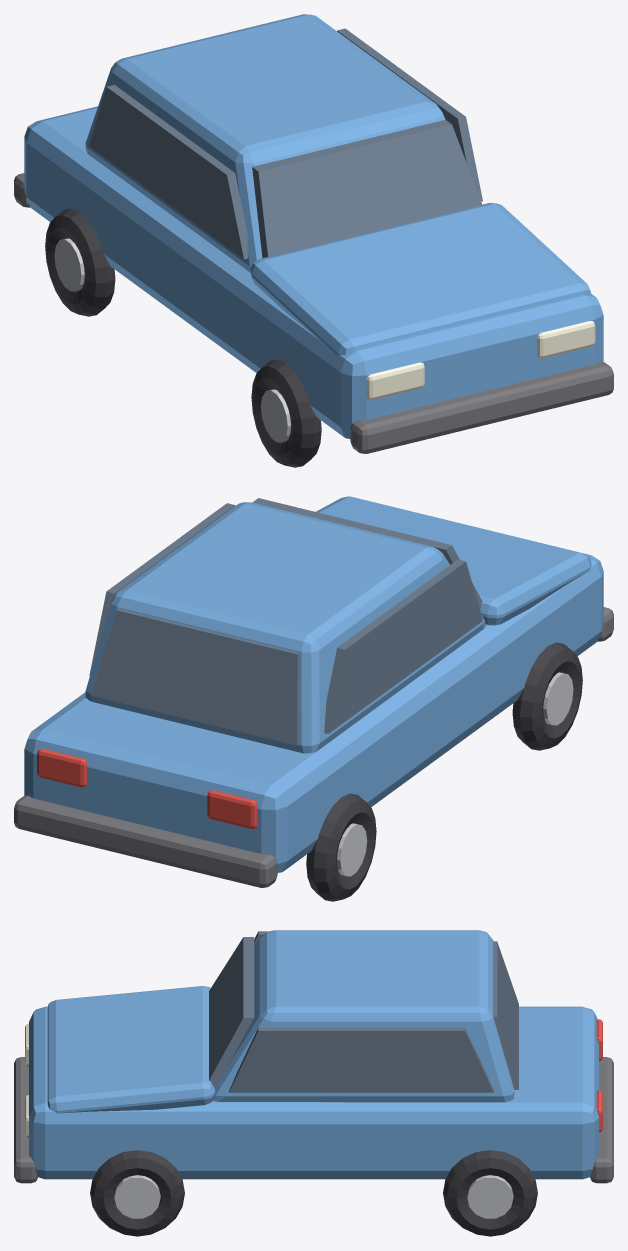
File: CarModel.glb
The picture shows the model from 3 angles, top to bottom: view 1: azimuth 30°, elevation 25°; view 2: azimuth 150°, elevation 25°; view 3: azimuth 270°, elevation 25°; orthographic projection. The views are drawn at different scales.
Visible parts, largest first — view 1: CarModel; view 2: CarModel; view 3: CarModel.
Part boxes in pixels (x1,y1,x2,y2): CarModel: [14, 14, 613, 467]; CarModel: [14, 496, 613, 901]; CarModel: [14, 930, 613, 1236].
Size of the model in its own units: 2.1 by 1.73 by 4.42.
